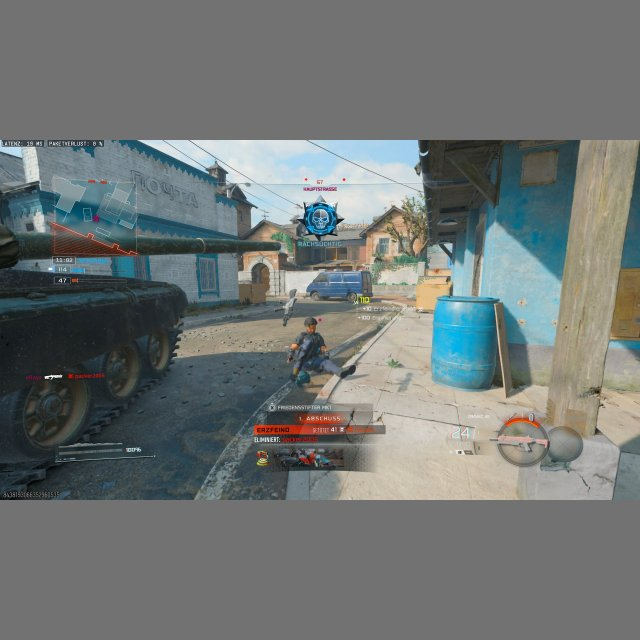head: (304, 316, 319, 333)
player: (287, 317, 330, 387)
